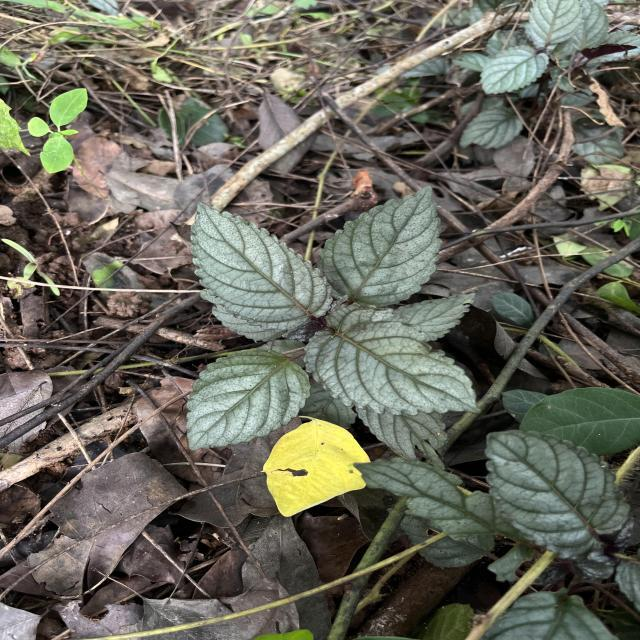Hemigraphis colorata: (302, 302, 486, 418), (188, 198, 336, 335), (482, 428, 632, 562), (314, 183, 446, 310), (184, 347, 313, 452), (392, 290, 478, 344)
